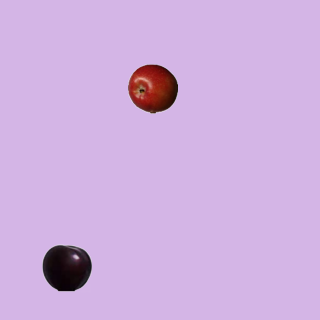Apple Braeburn: (127, 63, 177, 113)
Cherry Wax Black: (41, 242, 91, 292)
